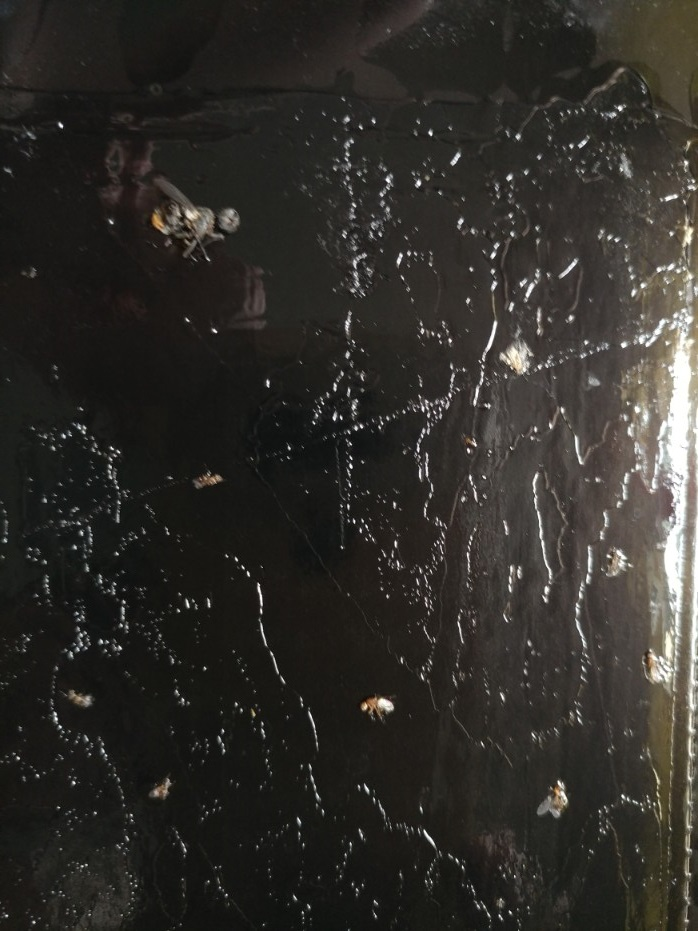fly: (139, 174, 259, 263)
